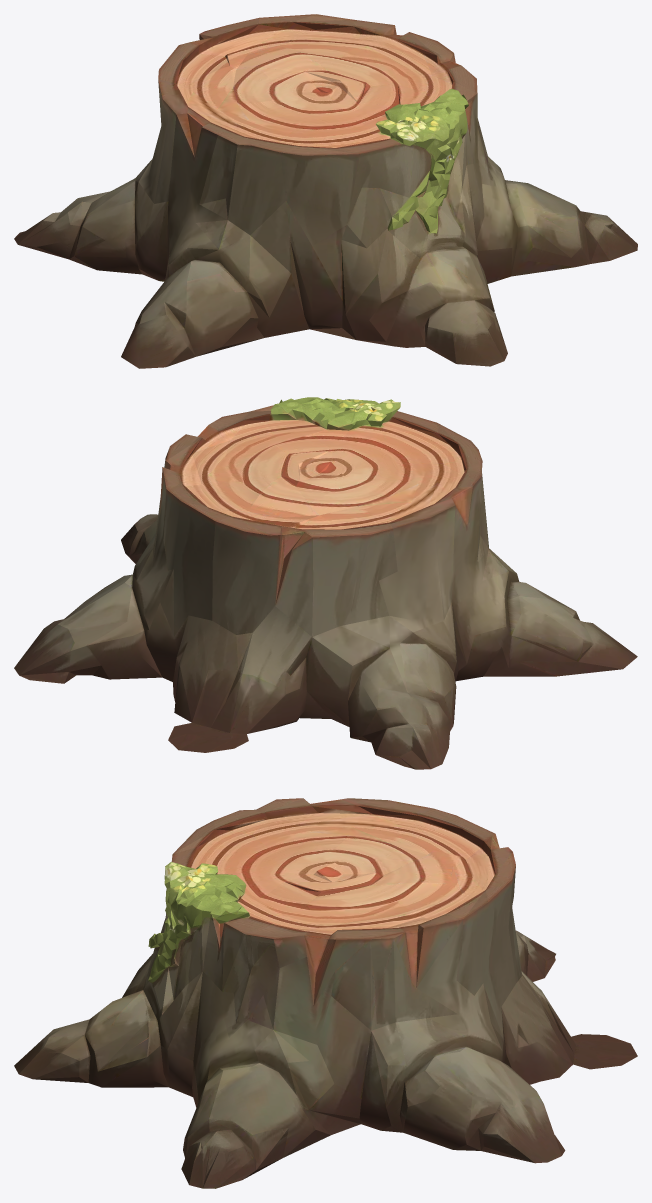
File: stump.glb
3 views of the same model, one above another, from view 1: azimuth 30°, elevation 25°; view 2: azimuth 150°, elevation 25°; view 3: azimuth 270°, elevation 25° (orthographic). The views are drawn at different scales.
Bounding box in the file's own units: 1.88 × 0.6541 × 1.9.
Materials: 1 (1 with a texture image).
